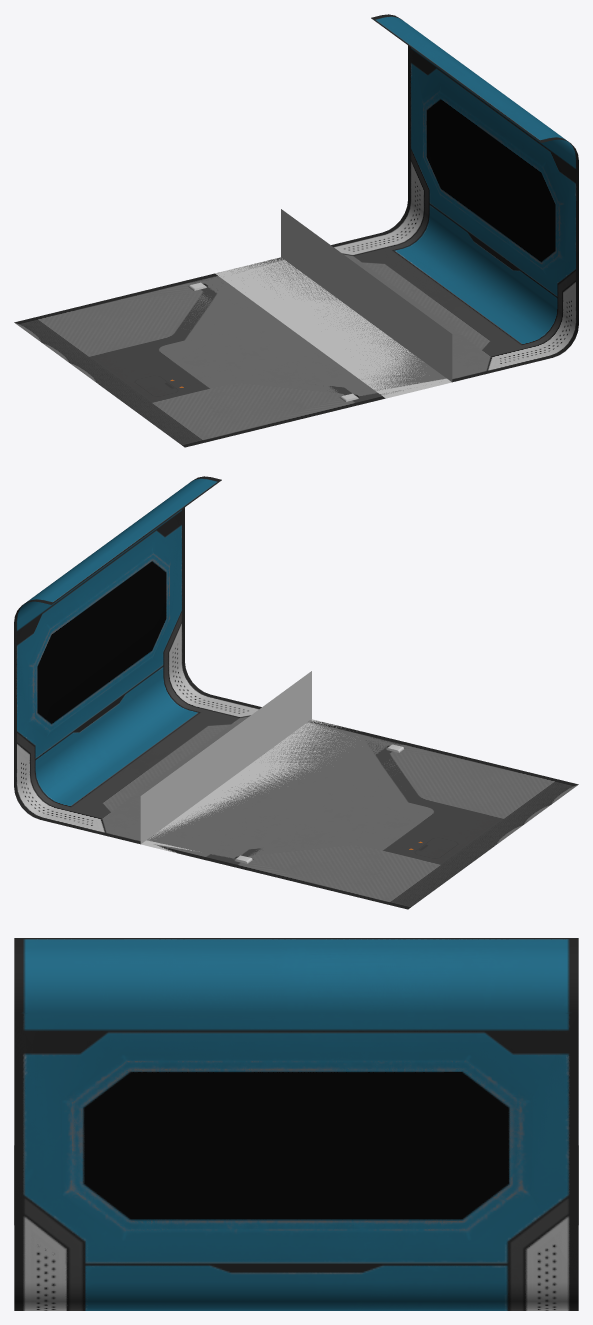
Rendered from Corridor_p3.fbx.
The picture shows the model from 3 angles, top to bottom: view 1: azimuth 30°, elevation 25°; view 2: azimuth 150°, elevation 25°; view 3: azimuth 270°, elevation 25°; orthographic projection. The views are drawn at different scales.
Visible parts, largest first — view 1: Floor_05, Wall_05, Wall_010, Wall_016, Floor_04; view 2: Floor_04, Wall_05, Wall_010, Wall_016, Floor_05; view 3: Wall_05, Wall_010.
Part boxes in pixels (x1,y1,x2,y2): Floor_05: (14,235,540,447); Wall_05: (371,14,578,360); Wall_010: (371,14,578,352); Wall_016: (215,209,452,398); Floor_04: (83,235,477,443); Floor_04: (52,697,578,909); Wall_05: (14,476,221,815); Wall_010: (14,476,221,822); Wall_016: (140,671,375,857); Floor_05: (113,697,503,897); Wall_05: (14,938,578,1310); Wall_010: (14,938,578,1310).
Size of the model in its own units: 4.66 by 2.48 by 3.5.
